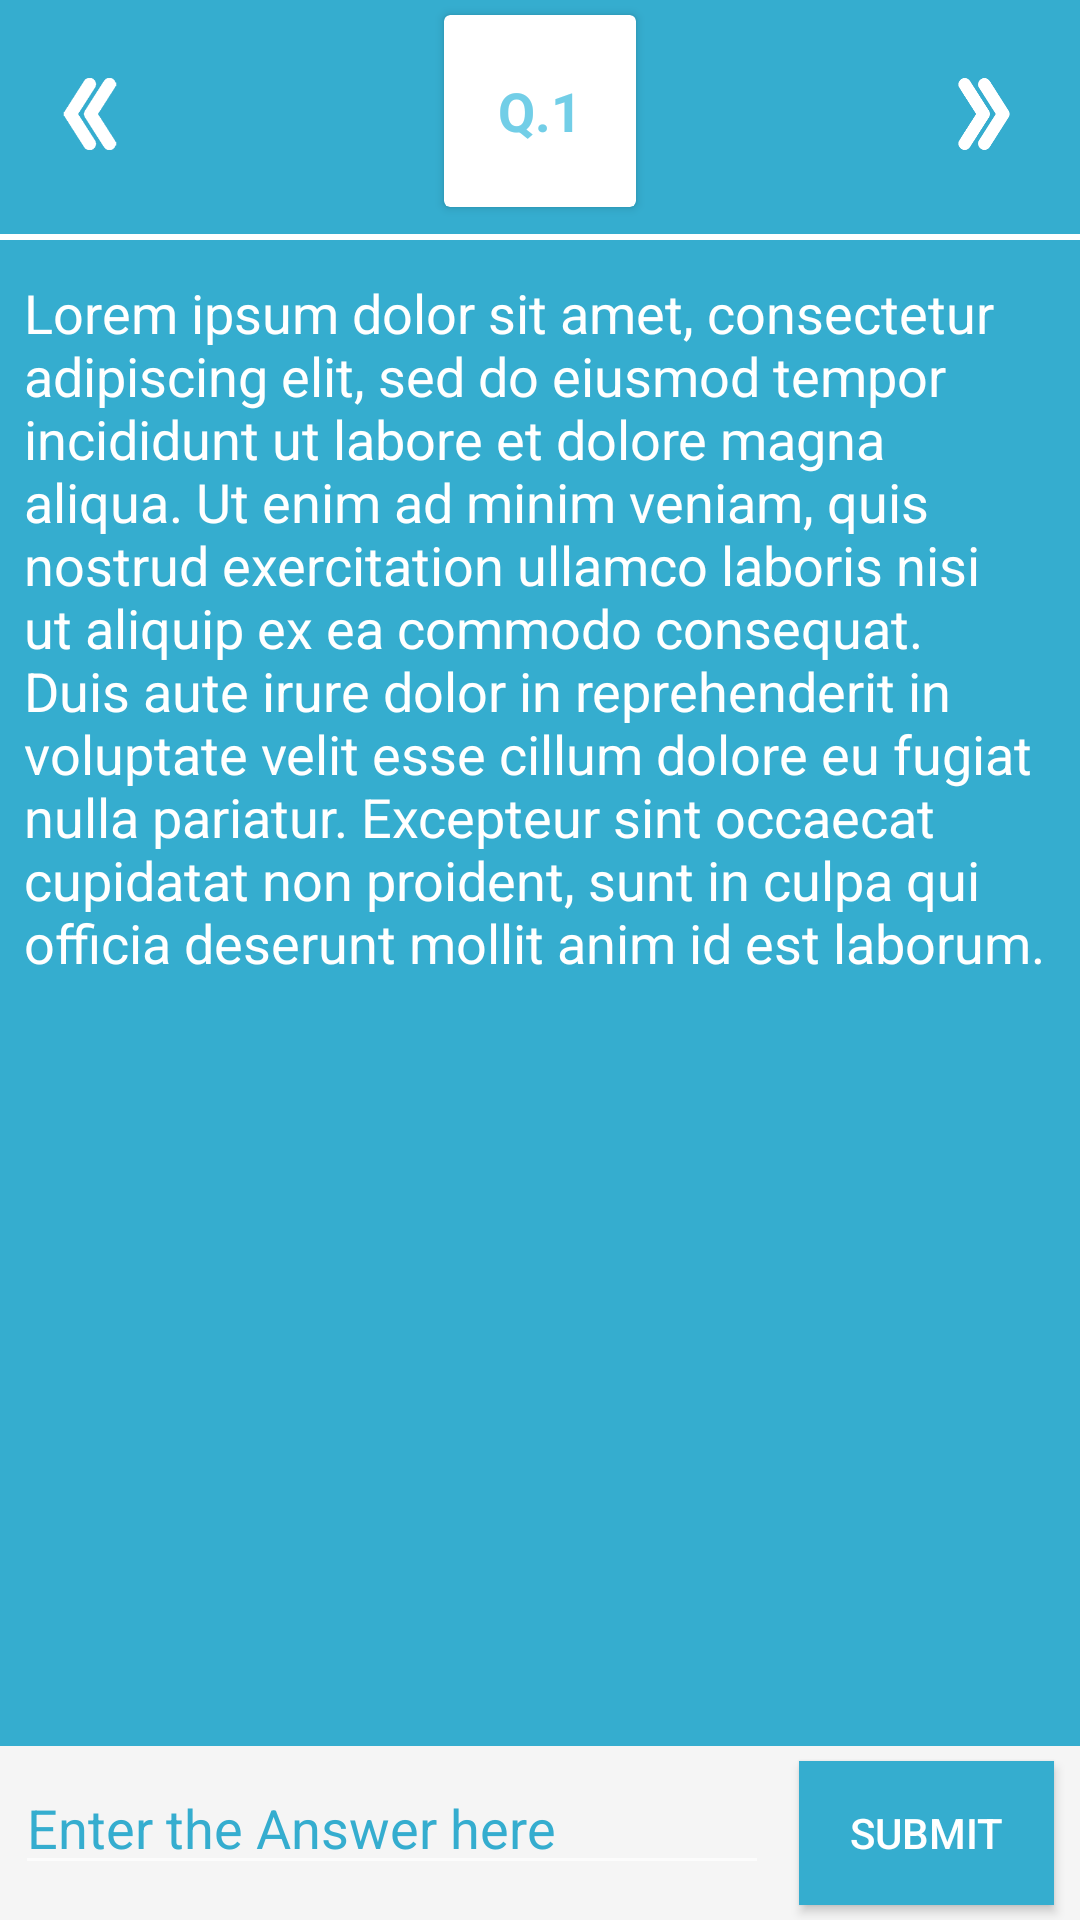

Screen size 1080*1920. Icon name, then its box in pixels as (x1, y1, x2, y2):
backward: (63, 78, 117, 150)
forward: (958, 78, 1010, 150)
